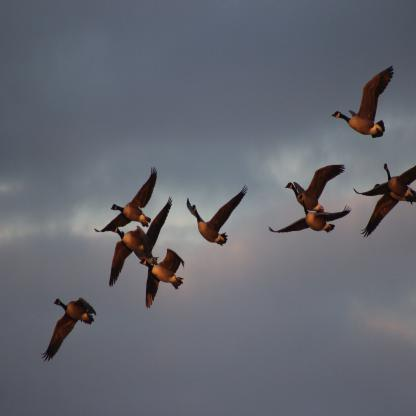bird: (331, 65, 395, 138), (93, 167, 158, 233), (186, 184, 248, 246), (40, 298, 97, 362), (121, 197, 173, 265), (268, 194, 352, 233), (360, 183, 415, 239), (285, 165, 345, 214), (107, 224, 152, 286), (140, 249, 186, 308), (353, 164, 416, 206)
